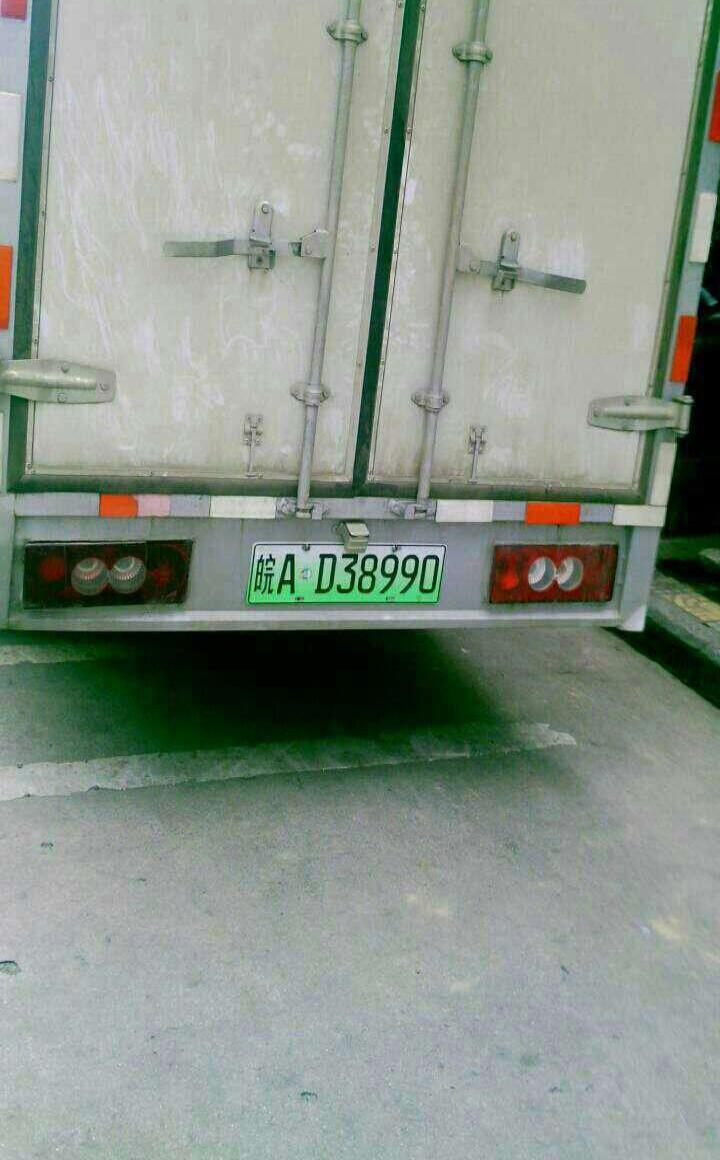car_id: (243, 542, 447, 601)
